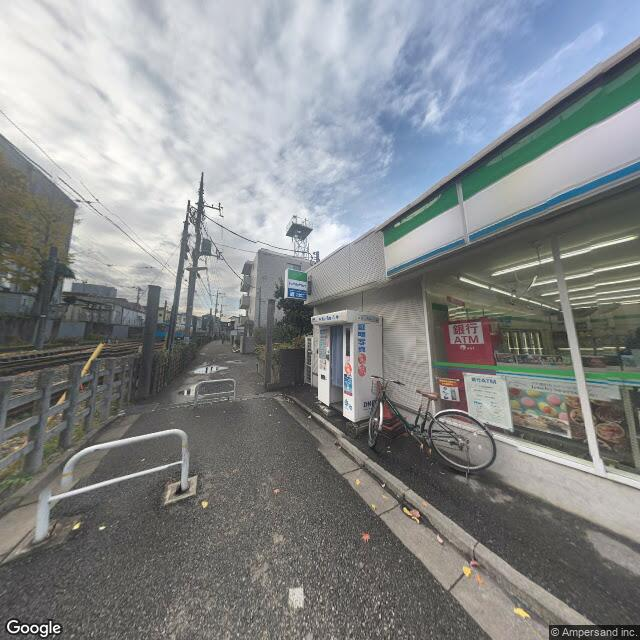family_mart: (380, 48, 637, 284), (284, 267, 306, 300)
